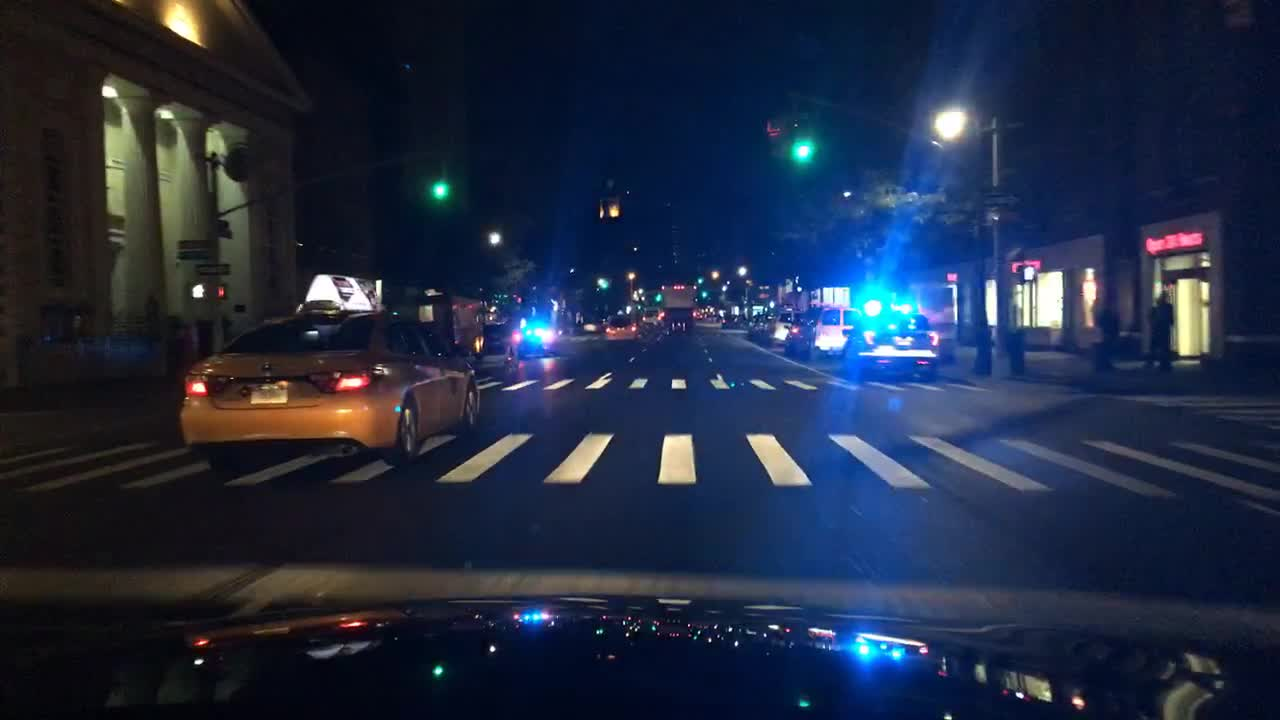car: (177, 270, 482, 480), (835, 300, 940, 382), (781, 305, 857, 361), (465, 319, 522, 385), (759, 301, 809, 348), (518, 320, 564, 361), (604, 313, 644, 346), (746, 310, 767, 338), (641, 306, 662, 328), (720, 313, 740, 329), (582, 319, 602, 335), (693, 310, 704, 321), (705, 308, 715, 319), (657, 311, 664, 320)
person: (1143, 287, 1175, 372), (226, 302, 251, 341)
traffic light: (786, 111, 815, 163), (763, 109, 788, 162), (420, 158, 449, 203), (185, 282, 207, 304), (212, 283, 229, 302), (1009, 257, 1025, 274), (1020, 265, 1036, 281), (599, 277, 610, 290), (697, 274, 704, 284), (654, 292, 660, 303), (701, 290, 709, 298)
traffic sign: (981, 191, 1023, 209), (192, 262, 232, 277), (174, 248, 217, 261), (175, 237, 212, 248), (215, 228, 233, 241)
truck: (660, 283, 696, 330)
